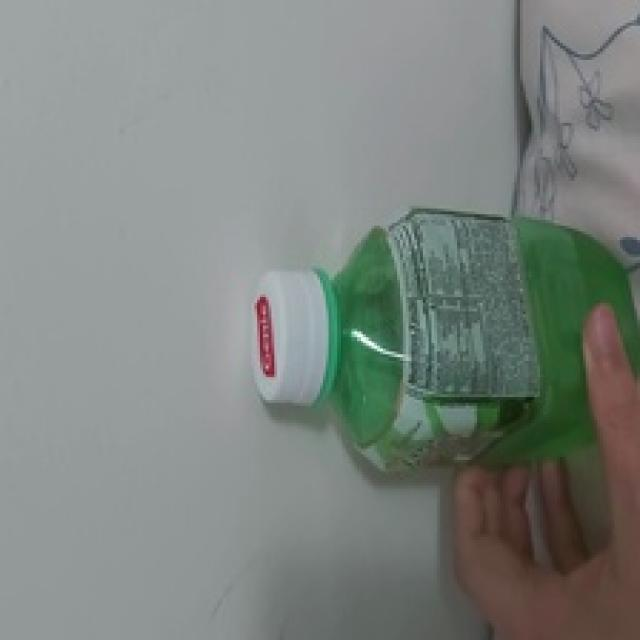Plastic: (248, 214, 640, 456)
